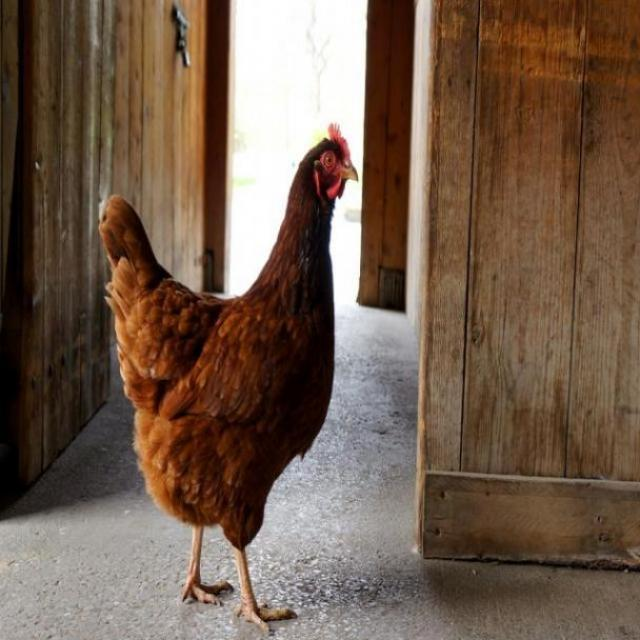Chicken: (98, 122, 362, 635)
